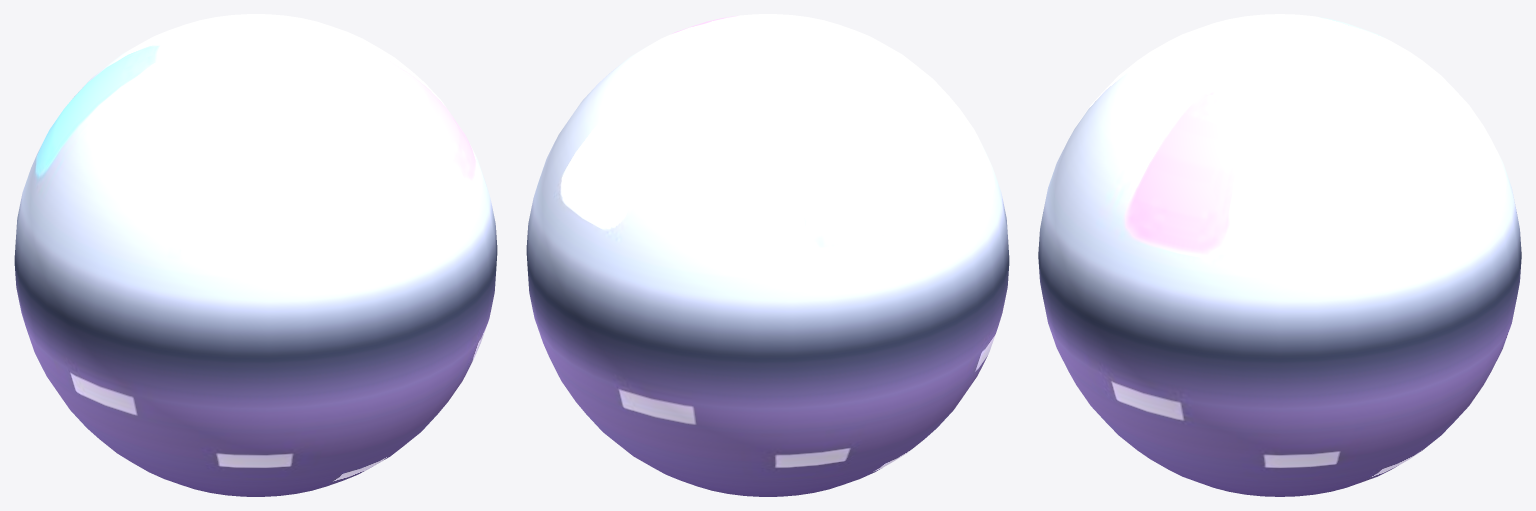
File: pp_ball.glb
3 views of the same model, side by side, from view 1: azimuth 30°, elevation 25°; view 2: azimuth 150°, elevation 25°; view 3: azimuth 270°, elevation 25° (orthographic).
Visible parts, largest first — view 1: Ball; view 2: Ball; view 3: Ball.
Boxes of the visible parts, x1,y1,x2,y2 form: Ball: (14, 14, 497, 496); Ball: (526, 14, 1009, 496); Ball: (1038, 14, 1521, 496).
Size of the model in its own units: 0.027 by 0.027 by 0.027.
Materials: 1 (1 with a texture image).
